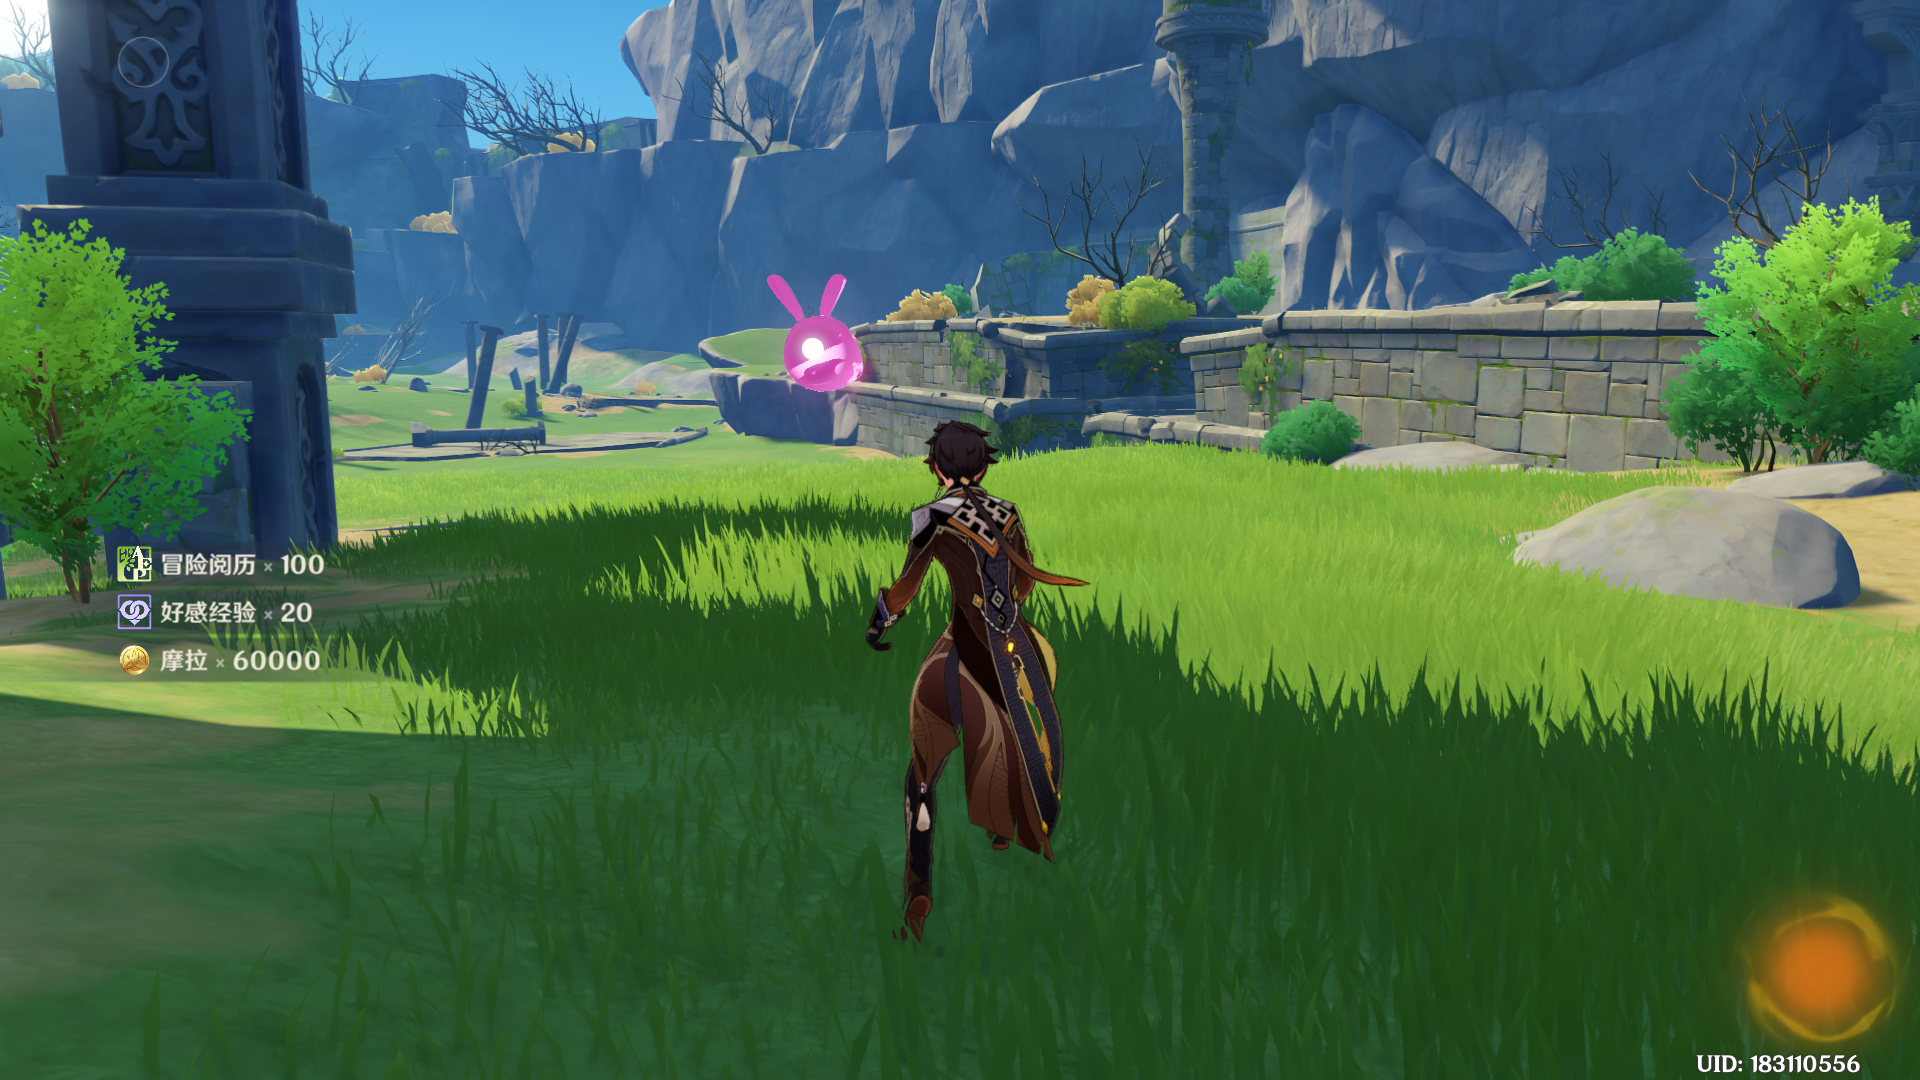character: (815, 419, 1122, 944)
